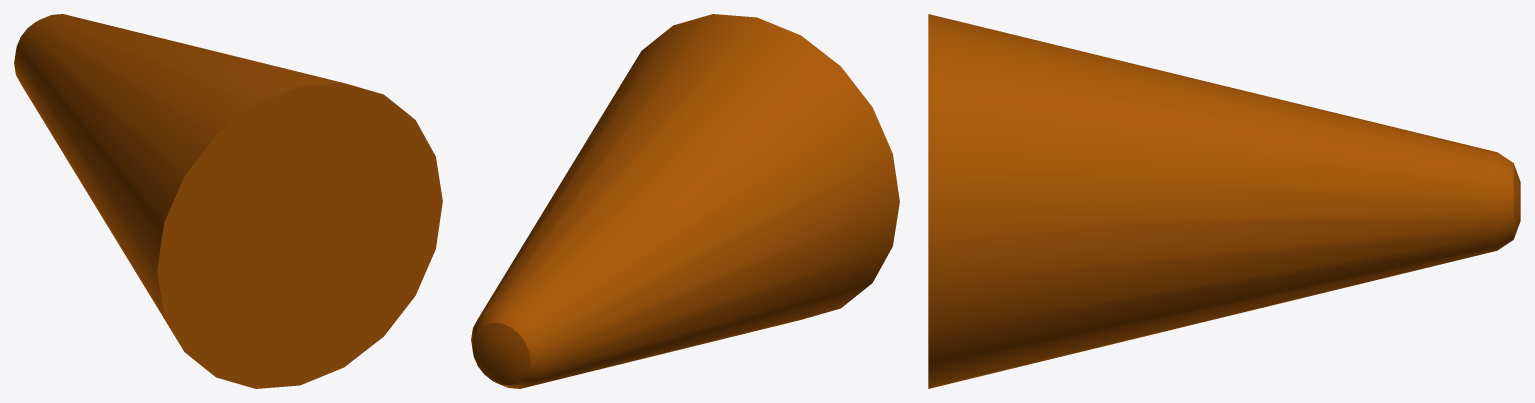
The model's file is carrot1_slices_5.fbx.
3 renders of one model, left to right at view 1: azimuth 30°, elevation 25°; view 2: azimuth 150°, elevation 25°; view 3: azimuth 270°, elevation 25°, orthographic. The views are drawn at different scales.
Parts seen in each view (by area): view 1: carrot1_slices.005; view 2: carrot1_slices.005; view 3: carrot1_slices.005.
Part boxes in pixels (x1,y1,x2,y2): carrot1_slices.005: (14, 14, 442, 388); carrot1_slices.005: (471, 14, 899, 388); carrot1_slices.005: (928, 14, 1520, 388).
Bounding box in the file's own units: 57.58 × 57.58 × 90.22.
